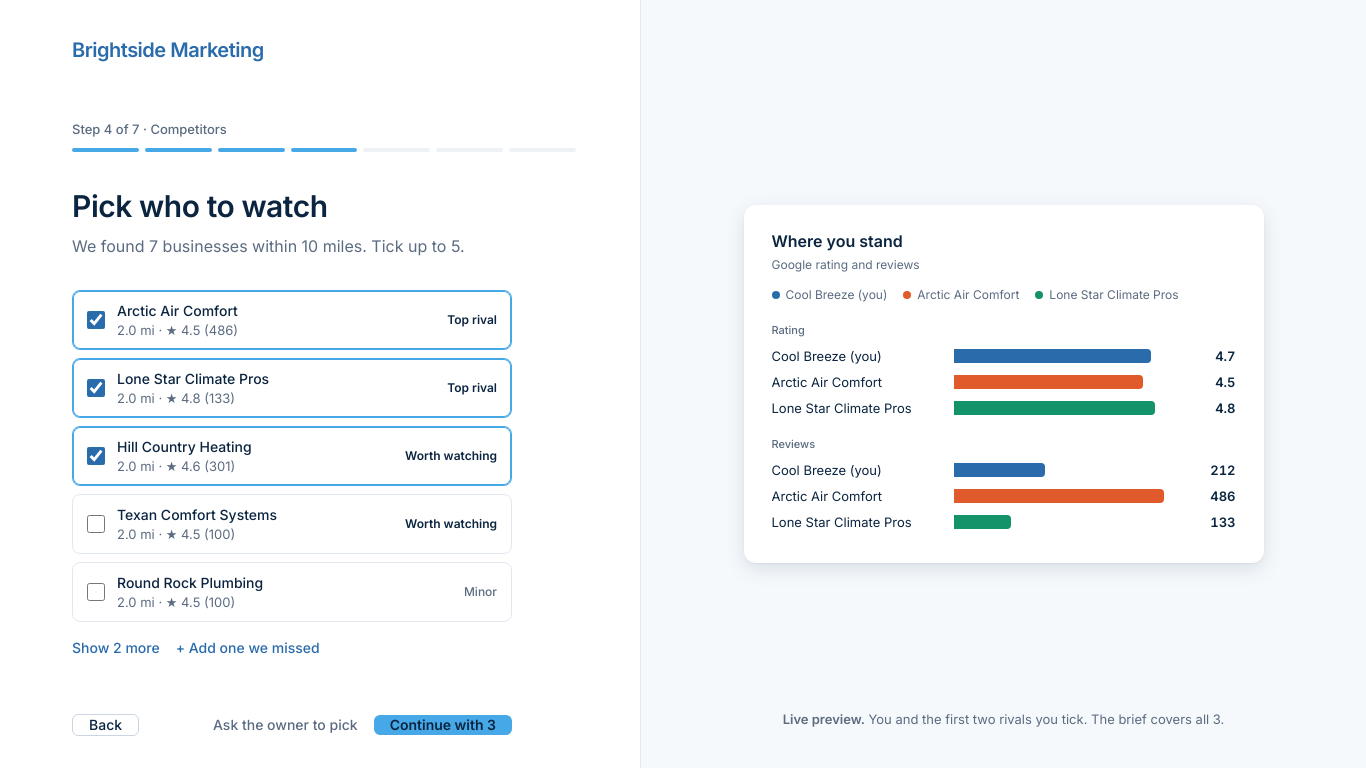
it: CompetitorsStep (client step 4) › scorecard shows at most two rivals
The width and height of the screenshot is (1366, 768).
Expected: the 2nd text "Arctic Air Comfort" is shown, left=772, top=374, right=882, bottom=390
Expected: the 2nd text "Lone Star Climate Pros" is shown, left=772, top=400, right=912, bottom=416
Click the checkbox labelled "Texan Comfort Systems" at (96, 524), box left=87, top=515, right=105, bottom=533
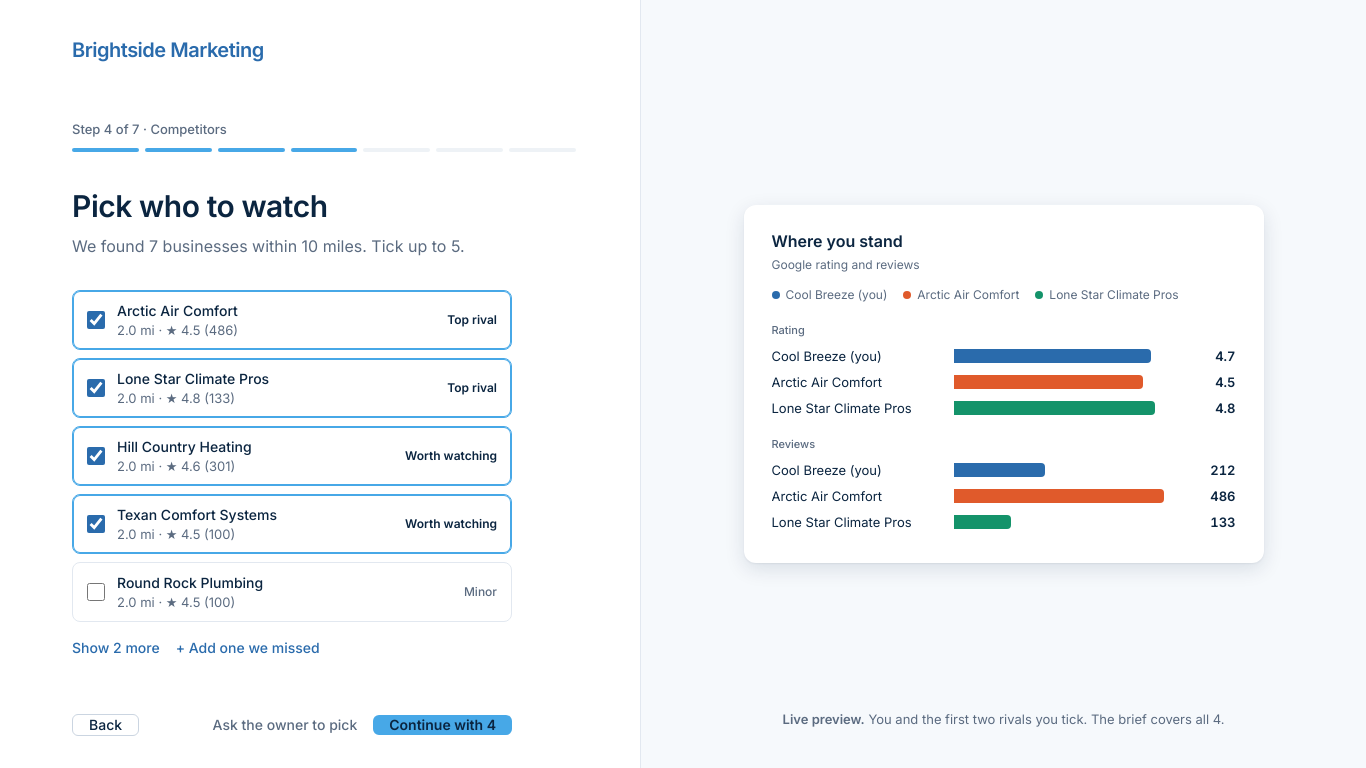
Click the checkbox labelled "Arctic Air Comfort" at (96, 320), box left=87, top=311, right=105, bottom=329
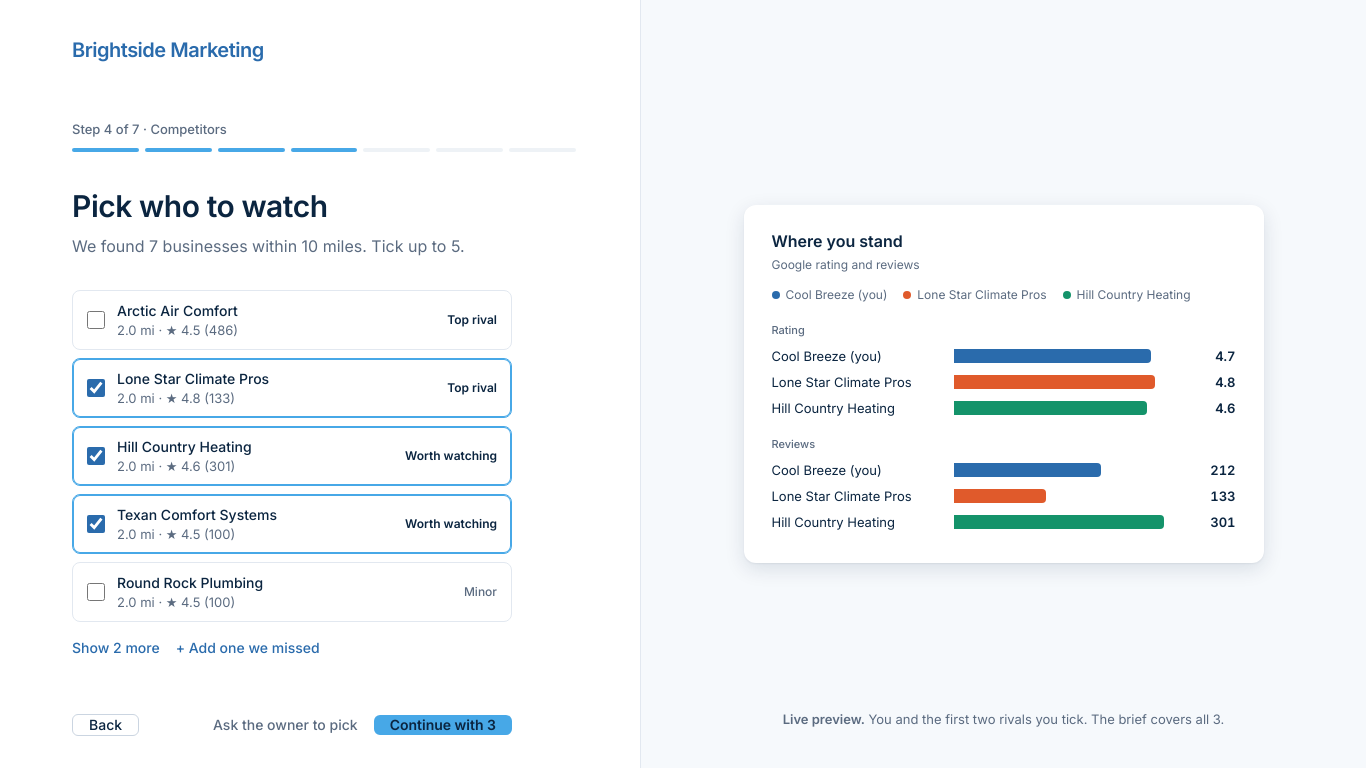
Expected: the 1st text "Hill Country Heating" is shown, left=772, top=400, right=895, bottom=416
